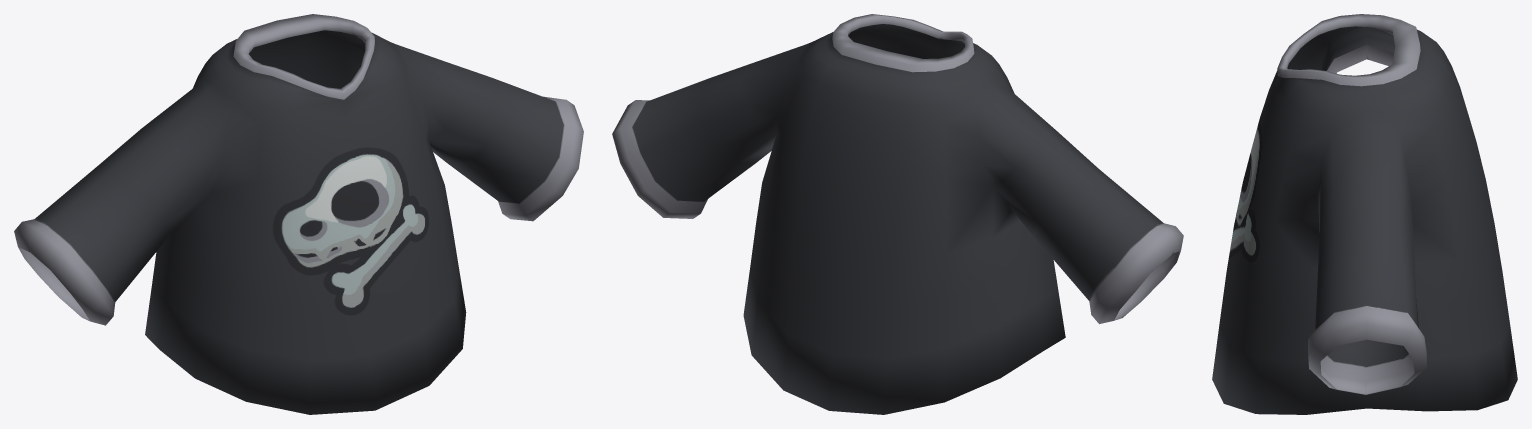
The model's file is manga-larga.glb.
The picture shows the model from 3 angles, left to right: view 1: azimuth 30°, elevation 25°; view 2: azimuth 150°, elevation 25°; view 3: azimuth 270°, elevation 25°; orthographic projection. The views are drawn at different scales.
Parts seen in each view (by area): view 1: Camisa.manga.larga; view 2: Camisa.manga.larga; view 3: Camisa.manga.larga.
Boxes of the visible parts, box(x1,y1,x2,y2) form: Camisa.manga.larga: box(14, 14, 583, 414); Camisa.manga.larga: box(612, 14, 1183, 414); Camisa.manga.larga: box(1212, 14, 1517, 414).
Bounding box in the file's own units: 1.02 × 0.5699 × 0.4706.
1 material, 1 textured.
